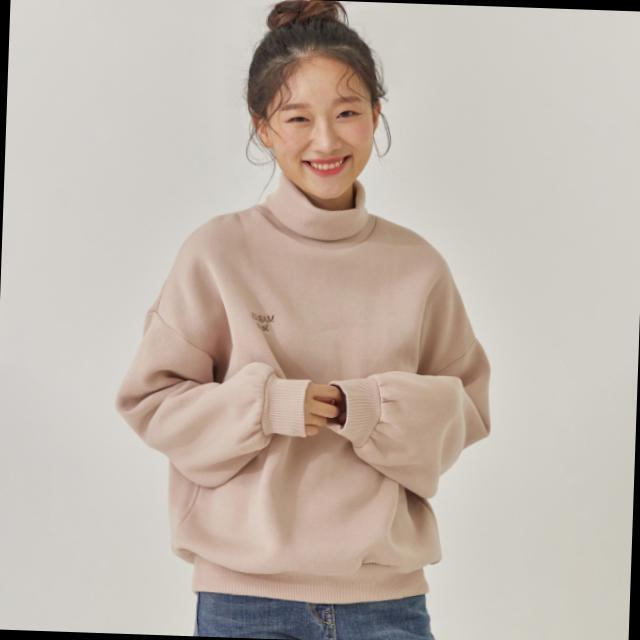sweater: (114, 175, 498, 608)
trousers: (188, 591, 436, 640)
